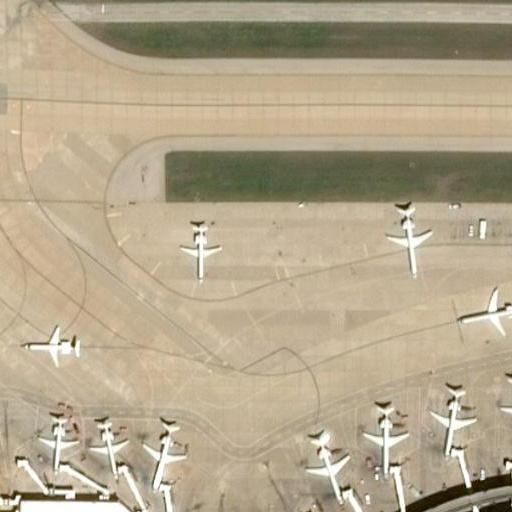Aircraft: (295, 425, 356, 492), (420, 381, 477, 449), (354, 395, 409, 464), (452, 284, 512, 341), (143, 418, 184, 493), (174, 223, 220, 284), (23, 325, 85, 368), (32, 413, 78, 470), (88, 419, 129, 480), (392, 206, 431, 268), (499, 367, 512, 431)
